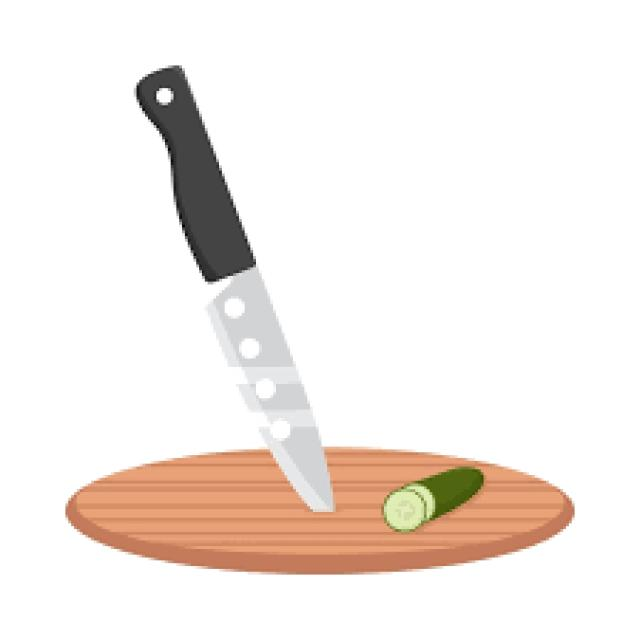Knife: (134, 63, 332, 512)
